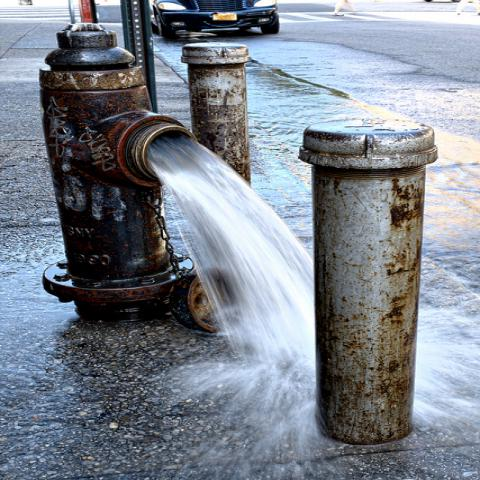car: (151, 0, 280, 38)
